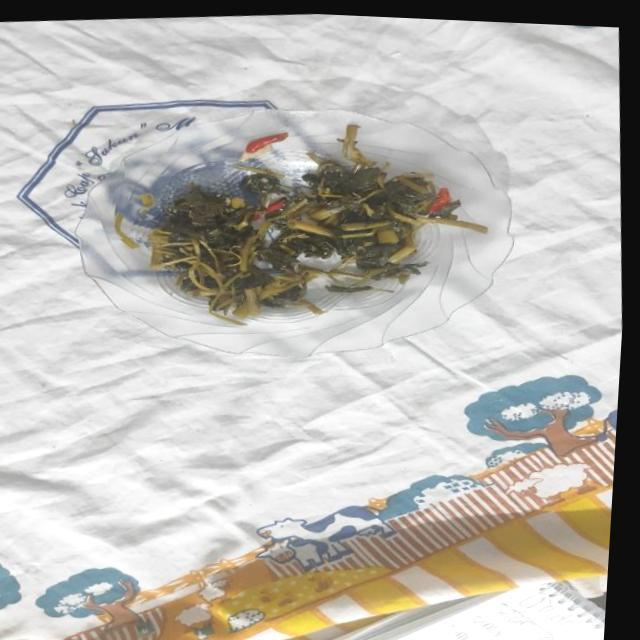tumis_kangkung: (148, 152, 438, 323)
